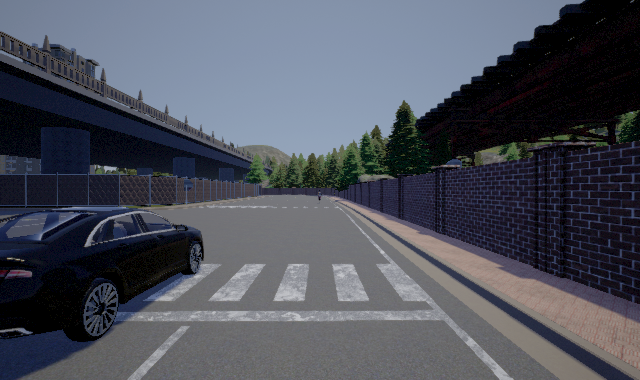vehicle: (1, 207, 204, 342)
